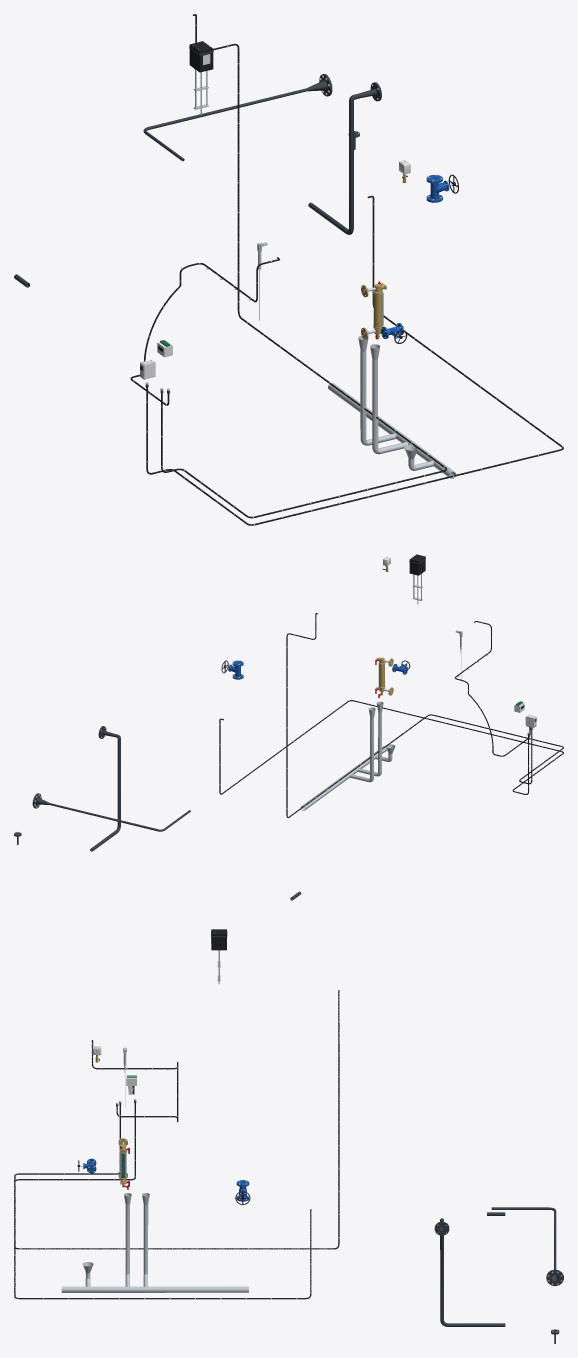
File: s4000-7-DDssV-fN.glb
3 views of the same model, one above another, from view 1: azimuth 30°, elevation 25°; view 2: azimuth 150°, elevation 25°; view 3: azimuth 270°, elevation 25° (orthographic). The views are drawn at different scales.
Parts seen in each view (by area): view 1: local_open_drains / steel, mod_eco_drive_cable / black, wiring_pump_2 / black, bottom_to_bdv / dark, tds_to_fv / dark, sight_glasses_1 / sight_glasses_1_0.npz, wiring_lp200 / black; view 2: local_open_drains / steel, mod_eco_drive_cable / black, wiring_pump_2 / black, bottom_to_bdv / dark, tds_to_fv / dark; view 3: local_open_drains / steel, mod_eco_drive_cable / black, wiring_pump_2 / black, bottom_to_bdv / dark, tds_to_fv / dark.
Boxes of the visible parts, x1,y1,x2,y2 form: local_open_drains / steel: [328, 336, 455, 478]; mod_eco_drive_cable / black: [161, 14, 446, 518]; wiring_pump_2 / black: [146, 195, 563, 525]; bottom_to_bdv / dark: [308, 82, 381, 234]; tds_to_fv / dark: [143, 74, 332, 161]; sight_glasses_1 / sight_glasses_1_0.npz: [361, 281, 386, 339]; wiring_lp200 / black: [130, 257, 279, 405]; local_open_drains / steel: [300, 701, 395, 810]; mod_eco_drive_cable / black: [286, 613, 563, 817]; wiring_pump_2 / black: [219, 700, 563, 794]; bottom_to_bdv / dark: [90, 726, 120, 851]; tds_to_fv / dark: [32, 793, 190, 831]; local_open_drains / steel: [61, 1193, 248, 1292]; mod_eco_drive_cable / black: [14, 990, 339, 1249]; wiring_pump_2 / black: [14, 1103, 311, 1299]; bottom_to_bdv / dark: [434, 1218, 505, 1326]; tds_to_fv / dark: [491, 1207, 563, 1285].
Size of the model in its own units: 4.85 by 3.72 by 6.08.
